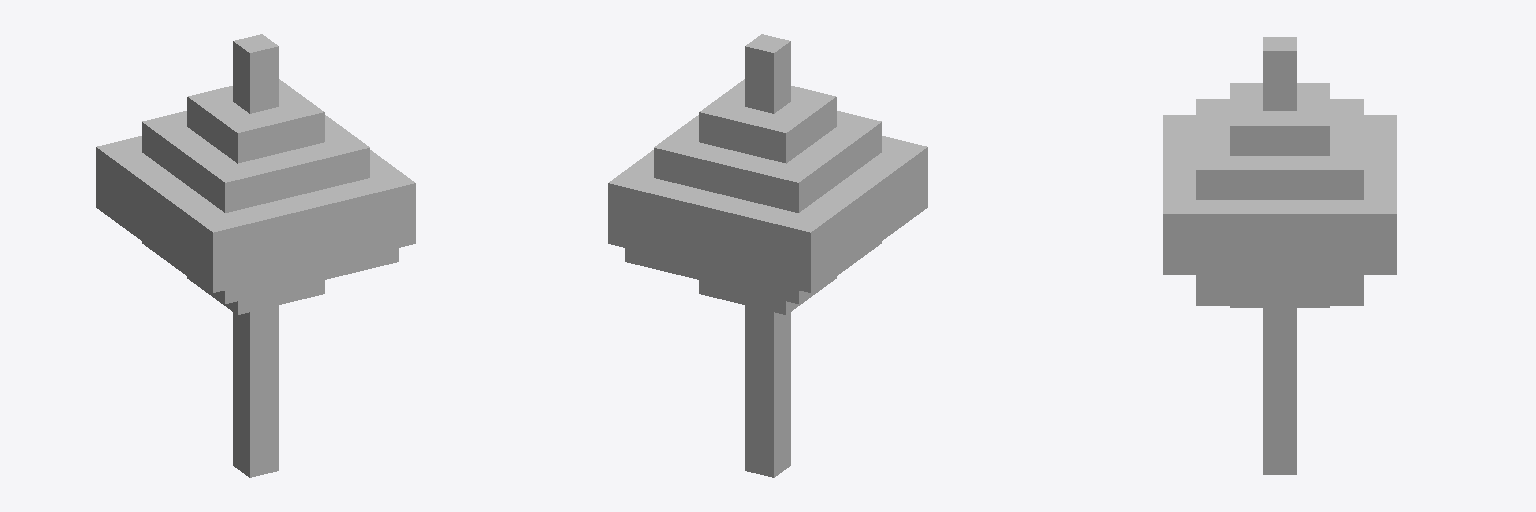
Rendered from Green.obj.
The picture shows the model from 3 angles: view 1: azimuth 30°, elevation 25°; view 2: azimuth 150°, elevation 25°; view 3: azimuth 270°, elevation 25°; orthographic projection.
Visible parts, largest first — view 1: object 1; view 2: object 1; view 3: object 1.
Part boxes in pixels (left/top/right/bottom): object 1: left=96, top=34, right=415, bottom=477; object 1: left=608, top=34, right=927, bottom=477; object 1: left=1163, top=37, right=1396, bottom=474.
Bounding box in the file's own units: 0.7 × 1.4 × 0.7.